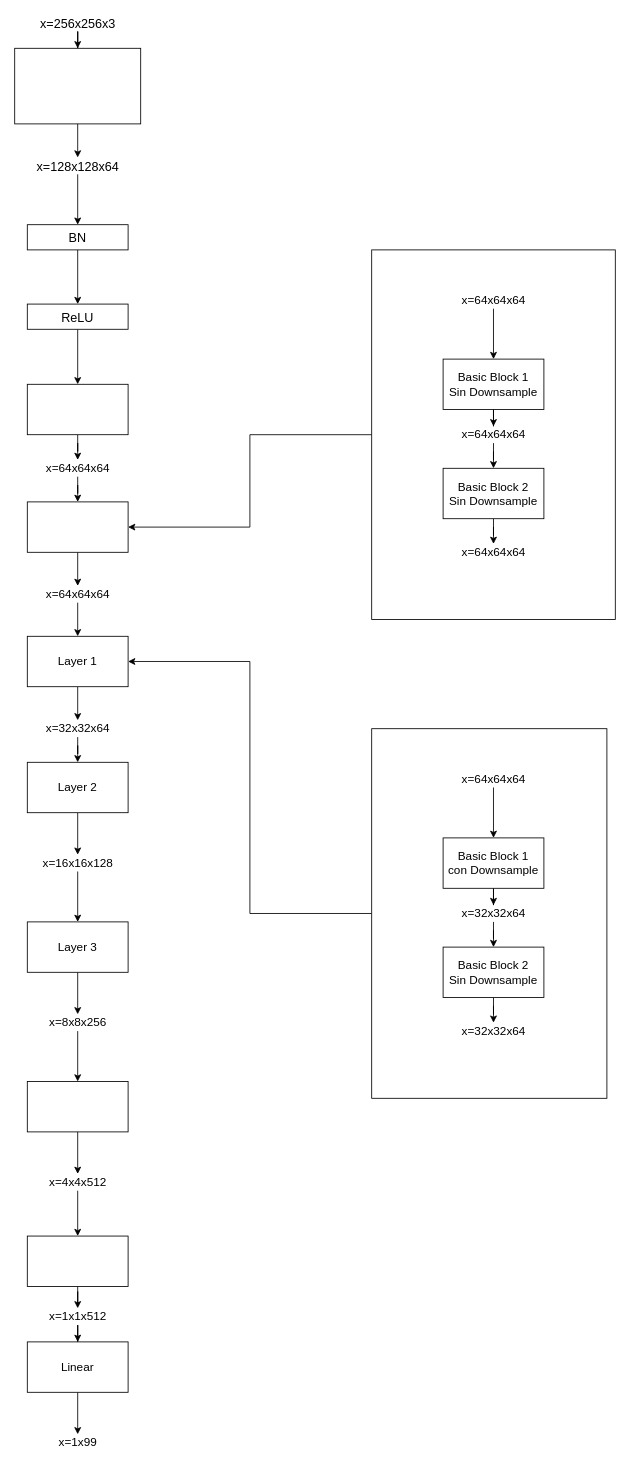
This 630x1465 diagram has some shape labels left out. The box of each missing label's shape, as (x1, y1, x2, y2) in pixels:
Adaptive AvgPooling (1,1): (26, 1235, 128, 1286)
conv7x7 mapas activ=64 Stride=2 Padding=3: (14, 47, 141, 124)
Layer 0: (26, 501, 128, 552)
Layer 4: (26, 1081, 128, 1132)
MaxPooling 3x3 Stride=2 Padding=1: (26, 383, 128, 435)
